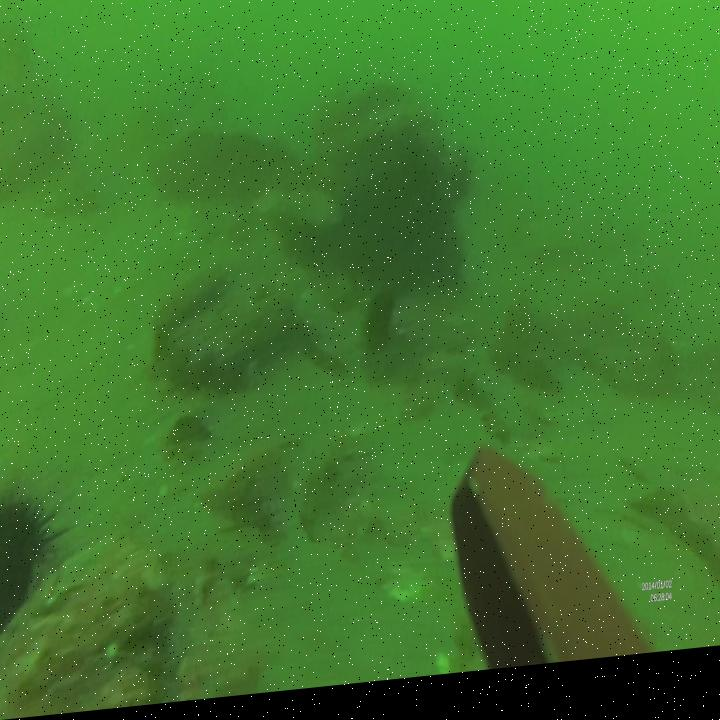echinus: (0, 476, 74, 634), (362, 288, 398, 366)
